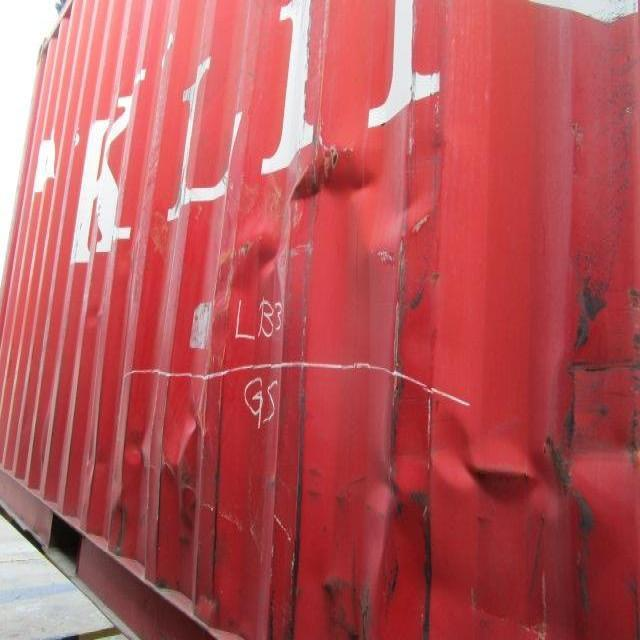dent: (82, 337, 289, 640), (362, 358, 636, 568), (212, 120, 494, 294)
